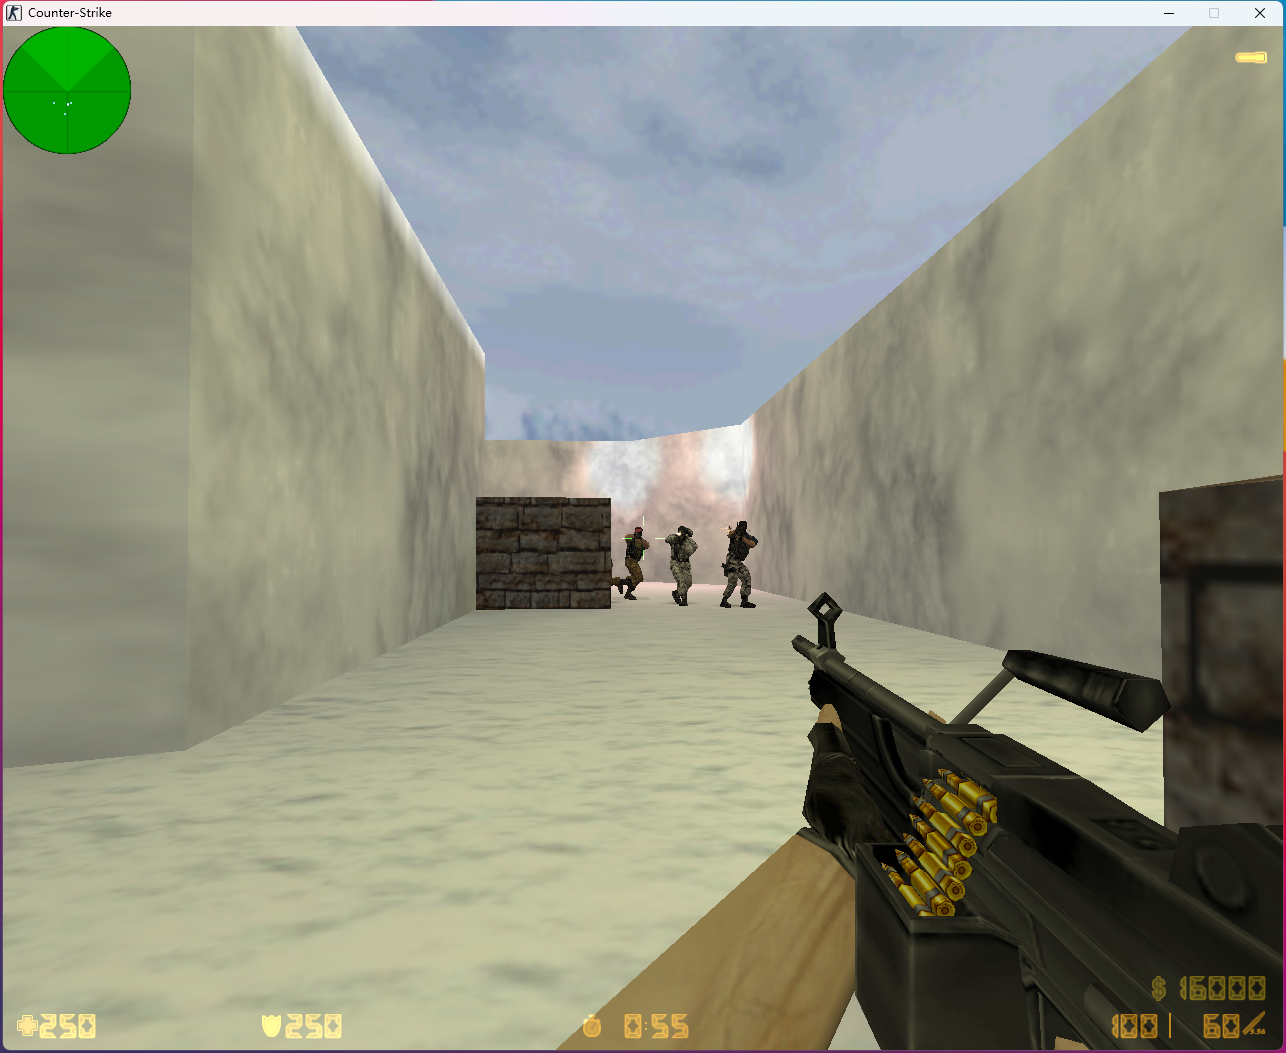T: (720, 521, 754, 610), (665, 525, 697, 606), (622, 525, 647, 601)
